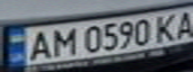0: (78, 22, 103, 54), (130, 16, 154, 46)
5: (100, 20, 121, 52)
9: (115, 19, 139, 48)
A: (21, 28, 54, 62), (172, 7, 193, 39)
K: (151, 11, 184, 43)
M: (48, 25, 78, 57)
